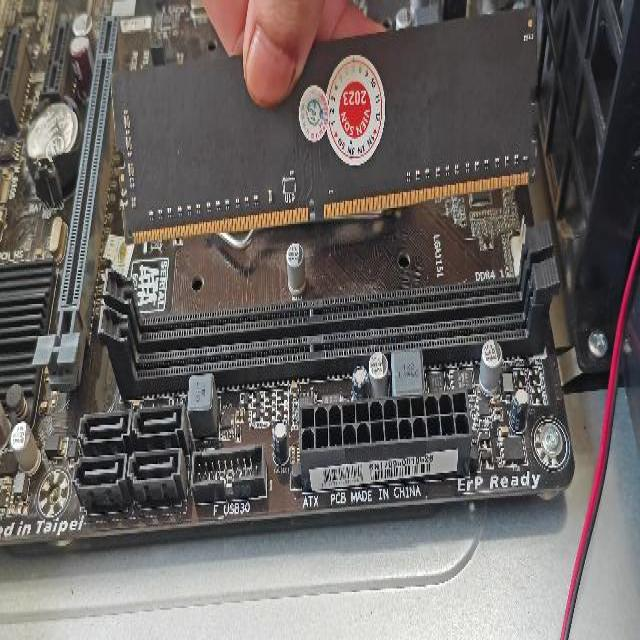Mainboard: (0, 0, 578, 540)
RAM: (108, 2, 541, 244)
